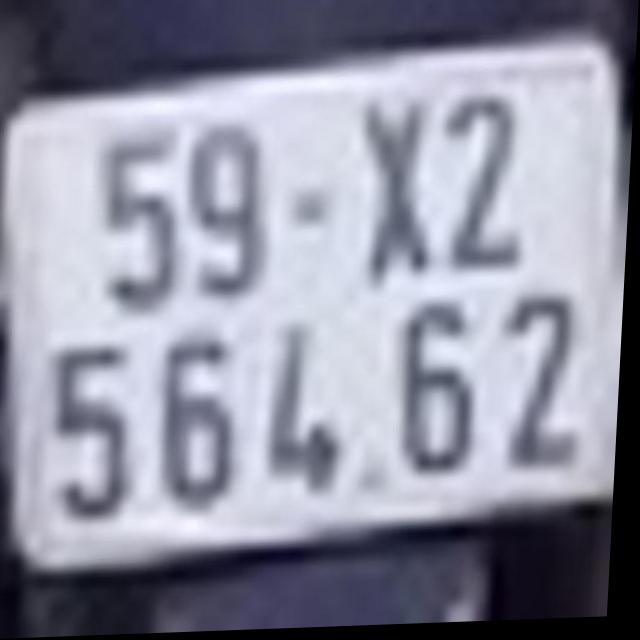2: (501, 295, 594, 474), (440, 98, 531, 276)
4: (269, 323, 348, 501)
5: (53, 346, 138, 522), (100, 139, 185, 311)
6: (160, 339, 242, 508), (403, 307, 483, 478)
9: (186, 129, 272, 300)
X: (356, 99, 440, 289)
